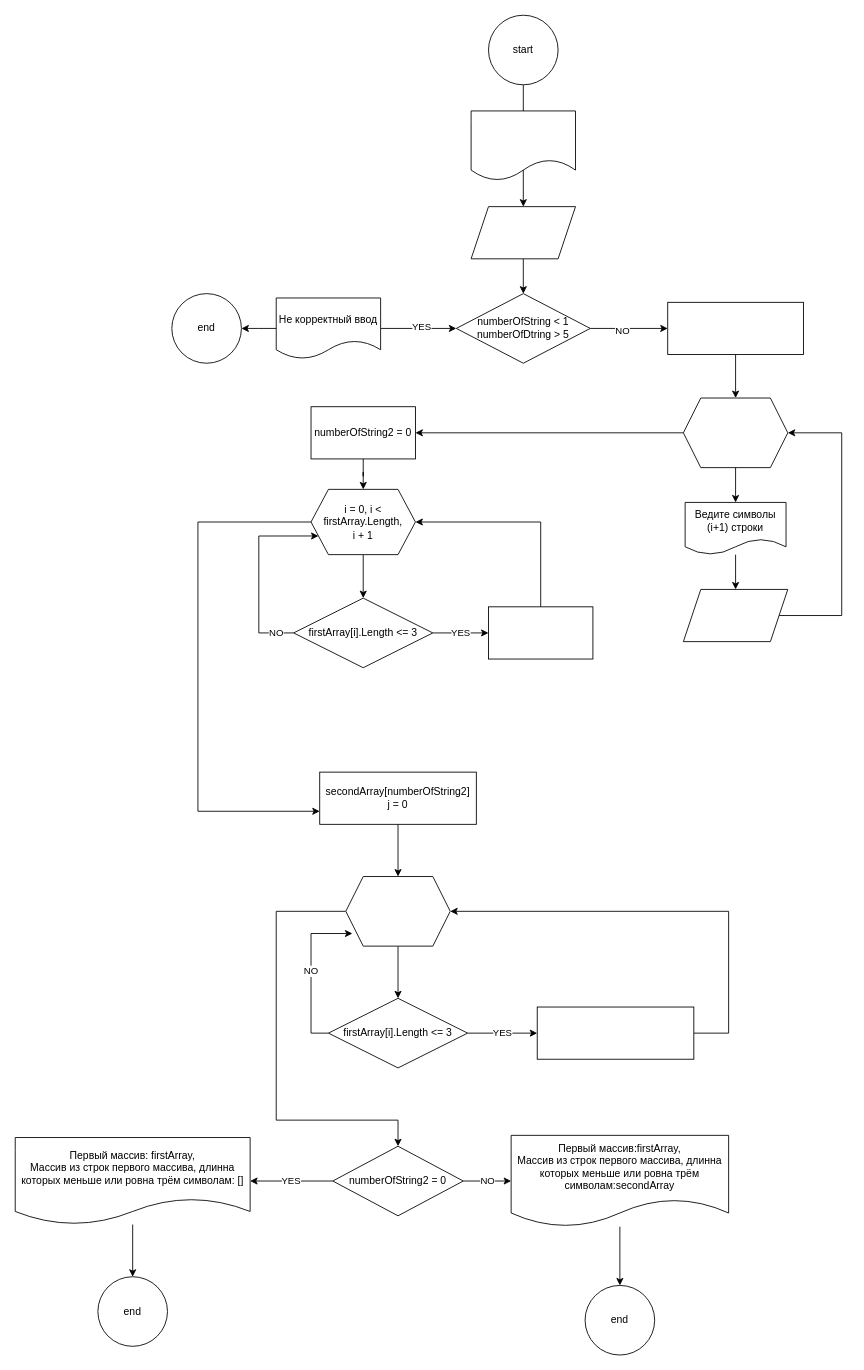
The diagram is 864 pixels wide and 1370 high, and some of its shapes have lost their labels. Here are the shapes that lost their labels. From the top down, the centre of each, then its label:
At (523,145): "Введите к-во строк в первом массиве от 1 до 5".
At (523,232): "numberOfString".
At (735,328): "firstArray[numberOfString]".
At (735,432): "i = 0, i < firstArray.Length, i+1".
At (540,632): "numberOfString2 + 1".
At (735,615): "firstArray[i]".
At (397,911): "i + 0, i < firstArray.Length, i + 1".
At (615,1032): "secondArray[j] = firstArray[i] j + 1".
